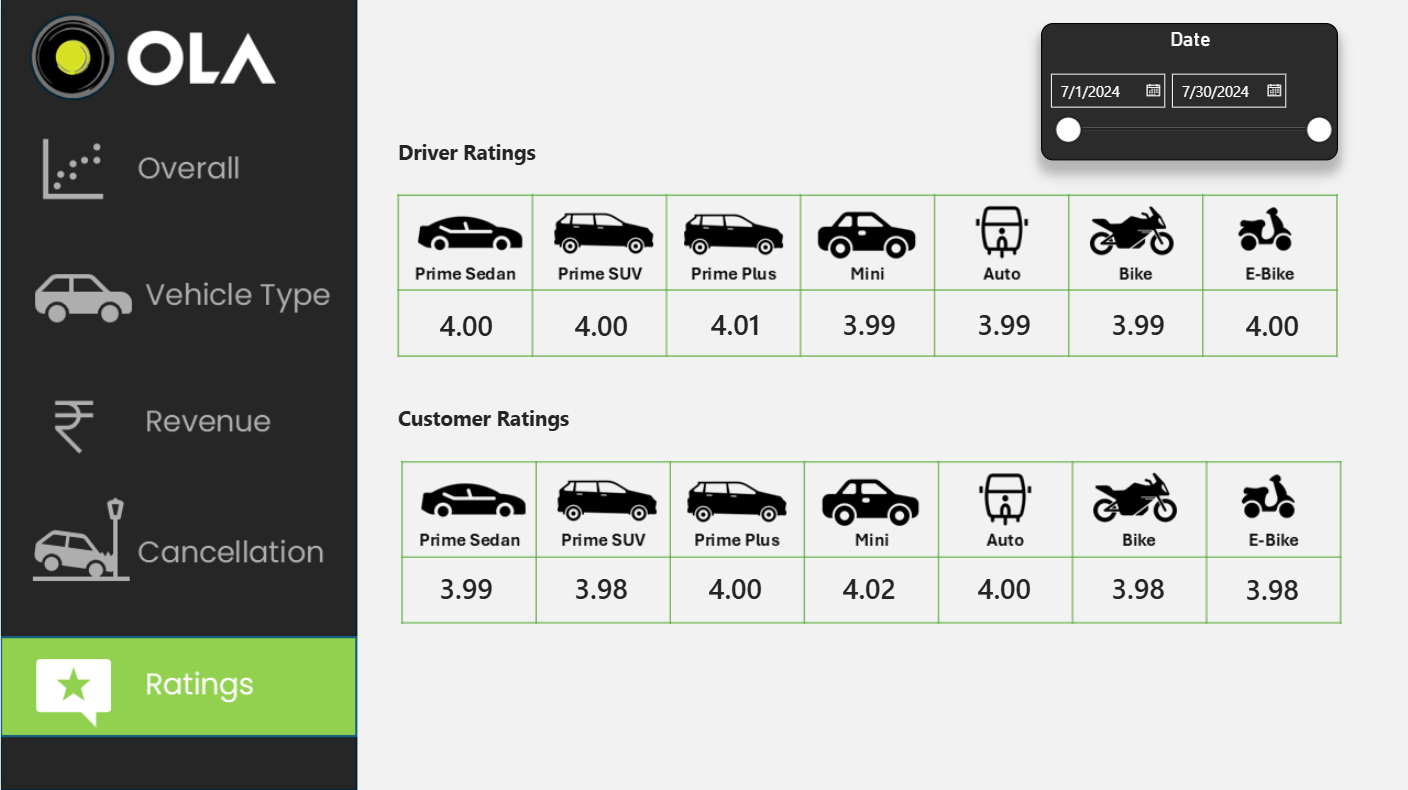

The dashboard page shown, as its layout file describes it:
{"tool":"powerbi","page":{"name":"RATINGS","canvas":[1280,720],"ordinal":4},"visuals":[{"type":"actionButton","box":[0,219.5,323.1,91.3],"z":0},{"type":"actionButton","box":[0,341.8,322.9,91.1],"z":1000},{"type":"actionButton","box":[0,446.4,322.7,90.9],"z":2000},{"type":"actionButton","box":[0,580.9,322.7,90.9],"z":3000},{"type":"actionButton","box":[0,111.8,322.7,90.9],"z":4000},{"type":"cardVisual","fields":{"Data":["Avg(July.Driver_Ratings)"]},"box":[360.9,265.5,122.1,59.7],"z":5000},{"type":"cardVisual","fields":{"Data":["Avg(July.Driver_Ratings)"]},"box":[483.5,265.1,122.1,59.7],"z":6000},{"type":"cardVisual","fields":{"Data":["Avg(July.Driver_Ratings)"]},"box":[605.6,264.8,122.1,59.7],"z":7000},{"type":"cardVisual","fields":{"Data":["Avg(July.Driver_Ratings)"]},"box":[727.6,264.8,122.1,59.7],"z":8000},{"type":"cardVisual","fields":{"Data":["Avg(July.Driver_Ratings)"]},"box":[849.6,264.8,122.1,59.7],"z":9000},{"type":"cardVisual","fields":{"Data":["Avg(July.Driver_Ratings)"]},"box":[971.6,264.8,122.1,59.7],"z":10000},{"type":"cardVisual","fields":{"Data":["Avg(July.Driver_Ratings)"]},"box":[1093.6,265.6,122.1,59.7],"z":11000},{"type":"cardVisual","fields":{"Data":["Avg(July.Customer_Rating)"]},"box":[360.9,504.9,122.1,59.7],"z":12000},{"type":"cardVisual","fields":{"Data":["Avg(July.Customer_Rating)"]},"box":[483.5,504.6,122.1,59.7],"z":13000},{"type":"cardVisual","fields":{"Data":["Avg(July.Customer_Rating)"]},"box":[605.6,504.3,122.1,59.7],"z":14000},{"type":"cardVisual","fields":{"Data":["Avg(July.Customer_Rating)"]},"box":[727.6,504.3,122.1,59.7],"z":15000},{"type":"cardVisual","fields":{"Data":["Avg(July.Customer_Rating)"]},"box":[849.6,504.3,122.1,59.7],"z":16000},{"type":"cardVisual","fields":{"Data":["Avg(July.Customer_Rating)"]},"box":[971.6,504.3,122.1,59.7],"z":17000},{"type":"cardVisual","fields":{"Data":["Avg(July.Customer_Rating)"]},"box":[1093.6,505.1,122.1,59.7],"z":18000},{"type":"textbox","box":[360.9,125.9,138.1,39],"z":18001},{"type":"textbox","box":[360.9,367.6,183.8,39],"z":18002},{"type":"slicer","title":"Date","fields":{"Values":["July.Date"]},"box":[945.8,21.2,269.7,124.8],"z":18003}]}

Visuals, with their boxes in screenshot pixels (x1, y1, x2, y2), scaled from the page's 1280x720 canvas onto the 1408x790 screenshot:
actionButton: [x1=0, y1=241, x2=355, y2=341]
actionButton: [x1=0, y1=375, x2=355, y2=475]
actionButton: [x1=0, y1=490, x2=355, y2=590]
actionButton: [x1=0, y1=637, x2=355, y2=737]
actionButton: [x1=0, y1=123, x2=355, y2=222]
cardVisual - Avg(July.Driver_Ratings): [x1=397, y1=291, x2=531, y2=357]
cardVisual - Avg(July.Driver_Ratings): [x1=532, y1=291, x2=666, y2=356]
cardVisual - Avg(July.Driver_Ratings): [x1=666, y1=291, x2=800, y2=356]
cardVisual - Avg(July.Driver_Ratings): [x1=800, y1=291, x2=935, y2=356]
cardVisual - Avg(July.Driver_Ratings): [x1=935, y1=291, x2=1069, y2=356]
cardVisual - Avg(July.Driver_Ratings): [x1=1069, y1=291, x2=1203, y2=356]
cardVisual - Avg(July.Driver_Ratings): [x1=1203, y1=291, x2=1337, y2=357]
cardVisual - Avg(July.Customer_Rating): [x1=397, y1=554, x2=531, y2=619]
cardVisual - Avg(July.Customer_Rating): [x1=532, y1=554, x2=666, y2=619]
cardVisual - Avg(July.Customer_Rating): [x1=666, y1=553, x2=800, y2=619]
cardVisual - Avg(July.Customer_Rating): [x1=800, y1=553, x2=935, y2=619]
cardVisual - Avg(July.Customer_Rating): [x1=935, y1=553, x2=1069, y2=619]
cardVisual - Avg(July.Customer_Rating): [x1=1069, y1=553, x2=1203, y2=619]
cardVisual - Avg(July.Customer_Rating): [x1=1203, y1=554, x2=1337, y2=620]
textbox: [x1=397, y1=138, x2=549, y2=181]
textbox: [x1=397, y1=403, x2=599, y2=446]
"Date" slicer: [x1=1040, y1=23, x2=1337, y2=160]
